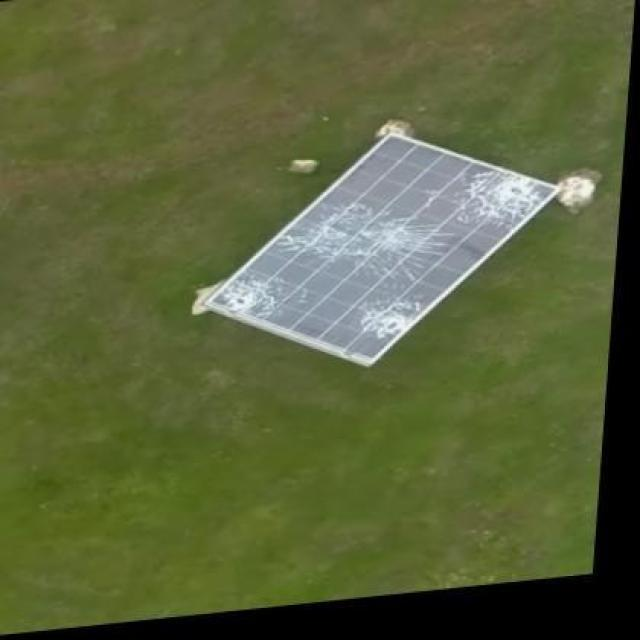cracked: (201, 131, 561, 378)
